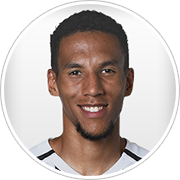smile: (77, 102, 108, 115)
